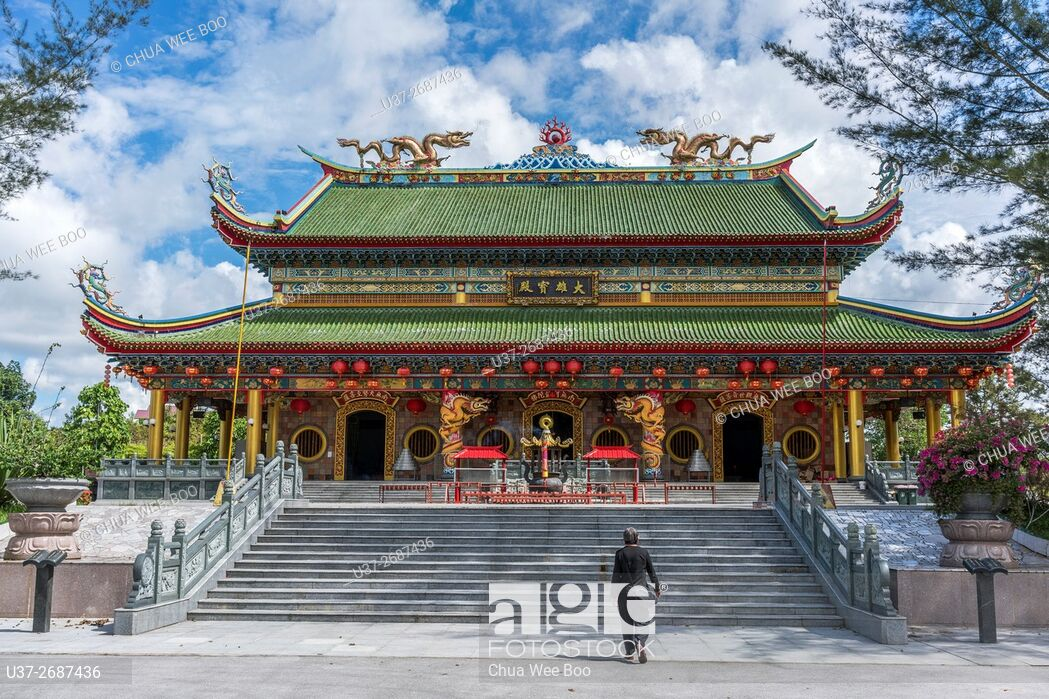Buddhist Temple: (117, 108, 1006, 501)
